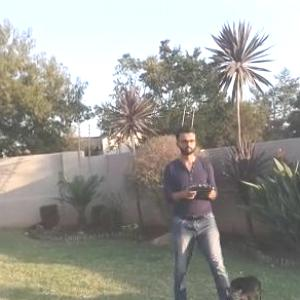follow: (160, 119, 236, 299)
null: (226, 269, 265, 299)
